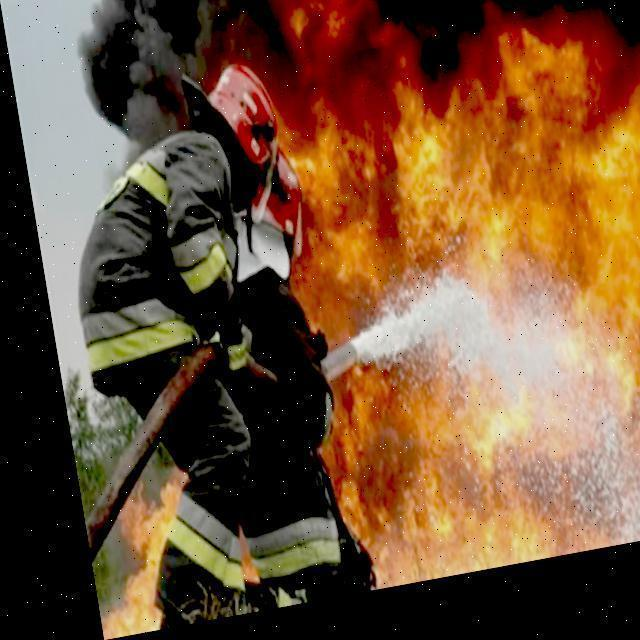Fire: (34, 0, 639, 635)
